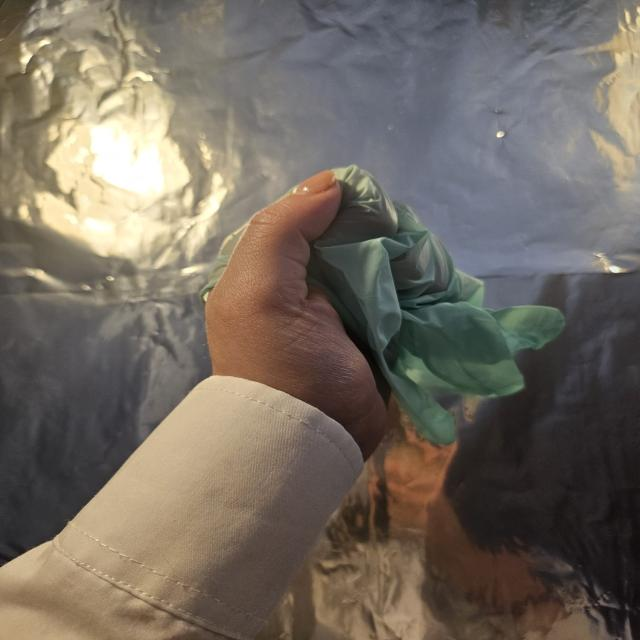glove_partial: (201, 160, 568, 450)
